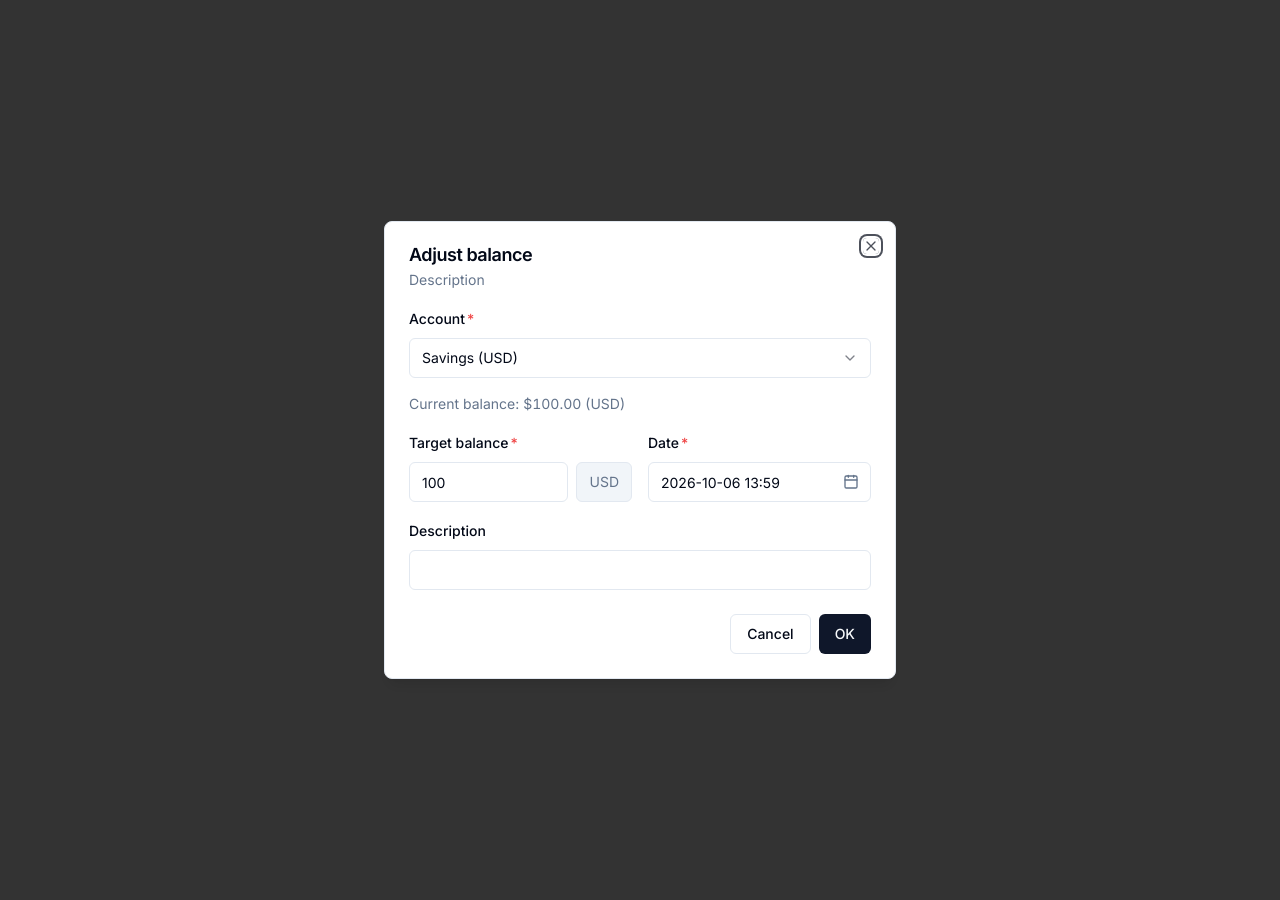
Test: AdjustBalanceDialog › server returns 400 with fieldErrors.targetBalance: field error shown, dialog stays open
Replace the text in the number field labelled "Target balance*" with "150": (489, 482) [409,462,568,502]
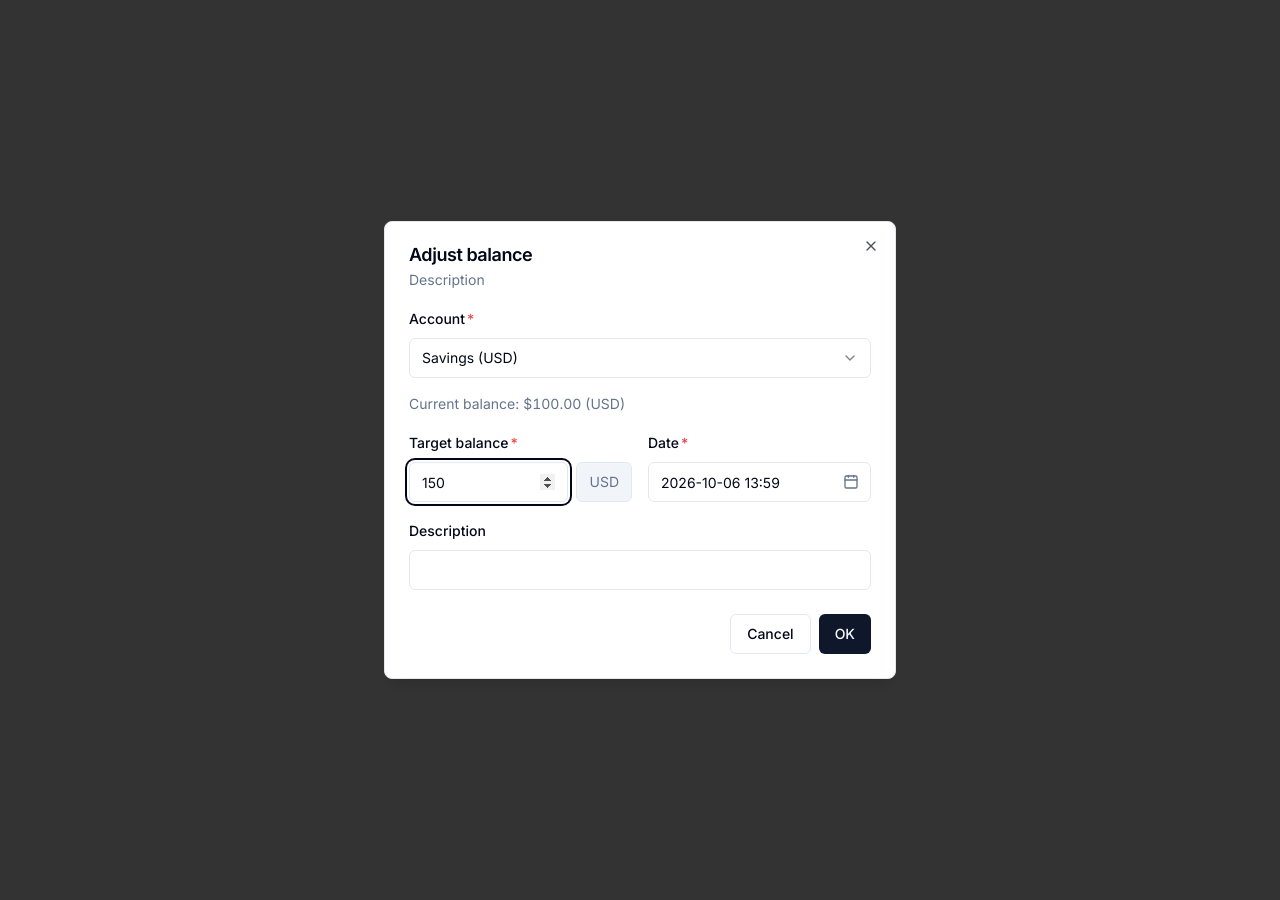
In the field labelled "Description": (640, 570) [409,550,871,590], type "Reconcile"
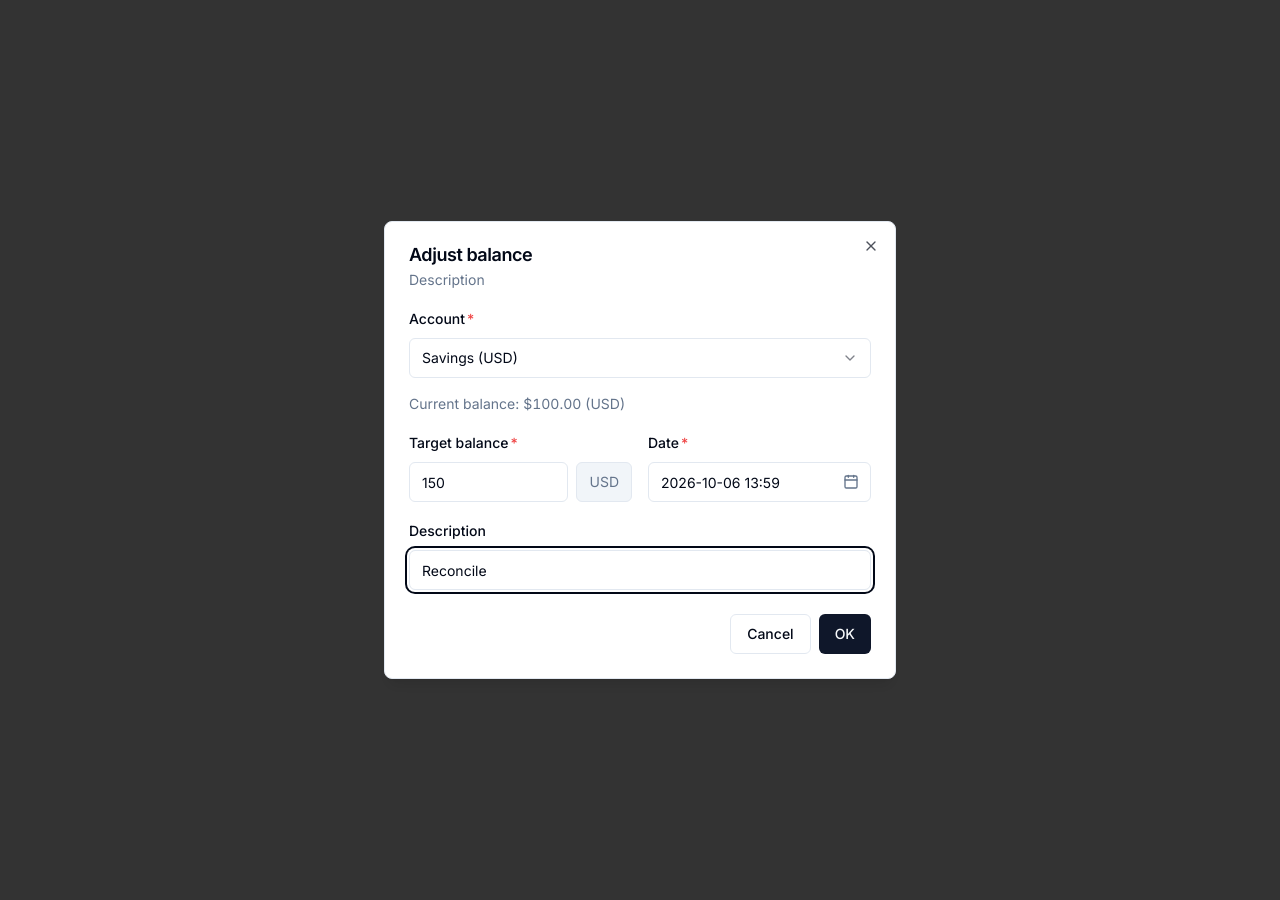
Click the button "OK": click(845, 634) [819,614,871,654]
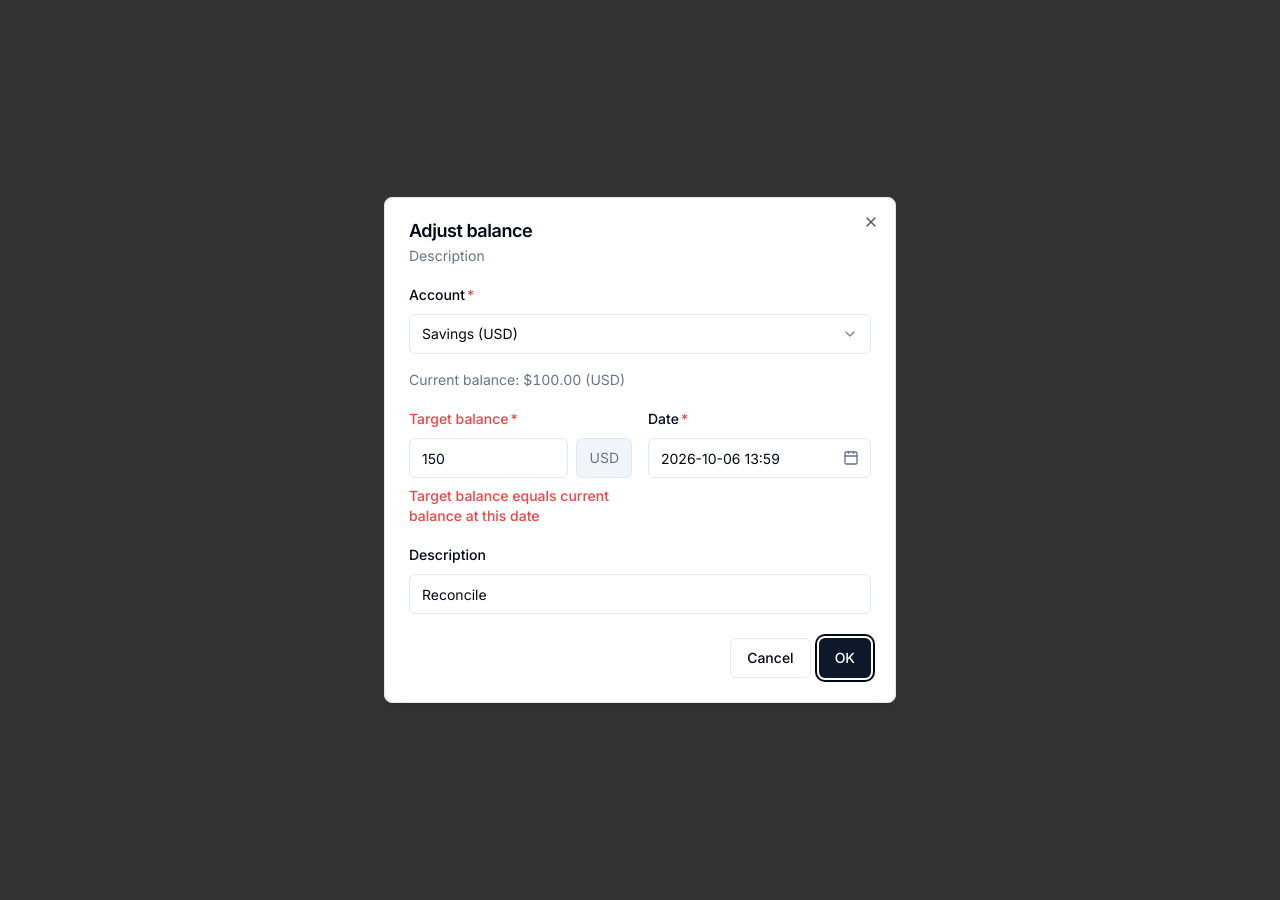
Expected: the text "Target balance equals current balance at this date" is shown, [409,486,632,526]
